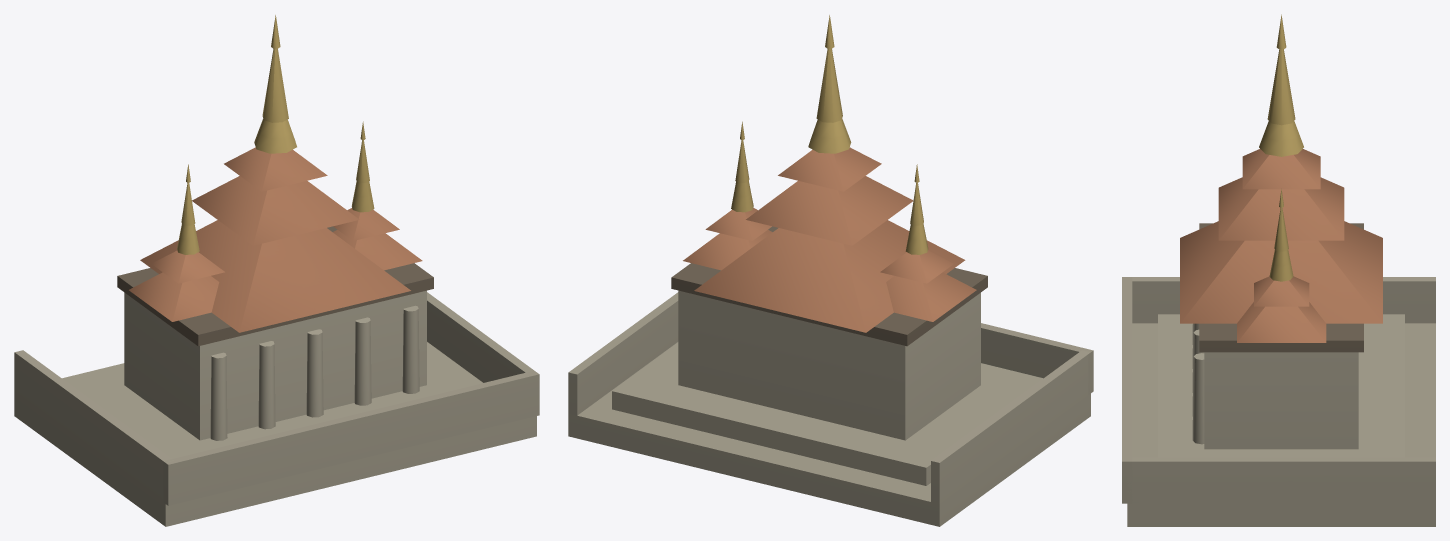
File: royal-palace.glb
The picture shows the model from 3 angles, left to right: view 1: azimuth 30°, elevation 25°; view 2: azimuth 150°, elevation 25°; view 3: azimuth 270°, elevation 25°; orthographic projection. The views are drawn at different scales.
Bounding box in the file's own units: 5.1 × 5.41 × 3.66.
